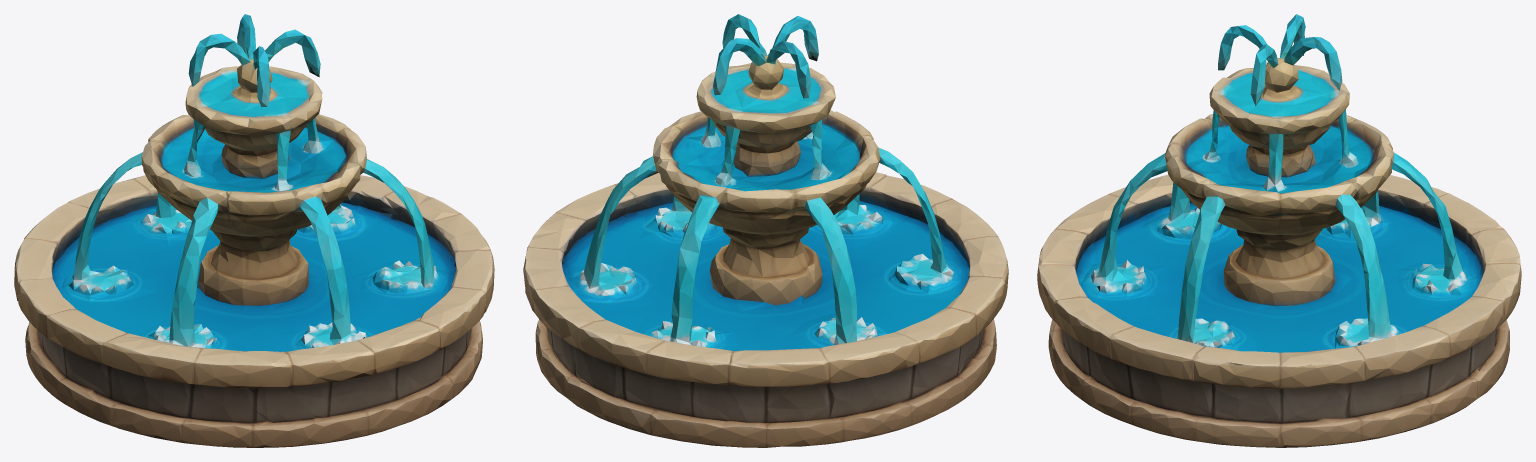
File: fountain.glb
3 views of the same model, side by side, from view 1: azimuth 30°, elevation 25°; view 2: azimuth 150°, elevation 25°; view 3: azimuth 270°, elevation 25° (orthographic).
Visible parts, largest first — view 1: geometry_0; view 2: geometry_0; view 3: geometry_0.
Boxes of the visible parts, left/top/right/bottom form: geometry_0: left=14, top=14, right=494, bottom=447; geometry_0: left=523, top=14, right=1008, bottom=447; geometry_0: left=1037, top=14, right=1521, bottom=447.
Size of the model in its own units: 1 by 0.7311 by 1.
1 material, 1 textured.
